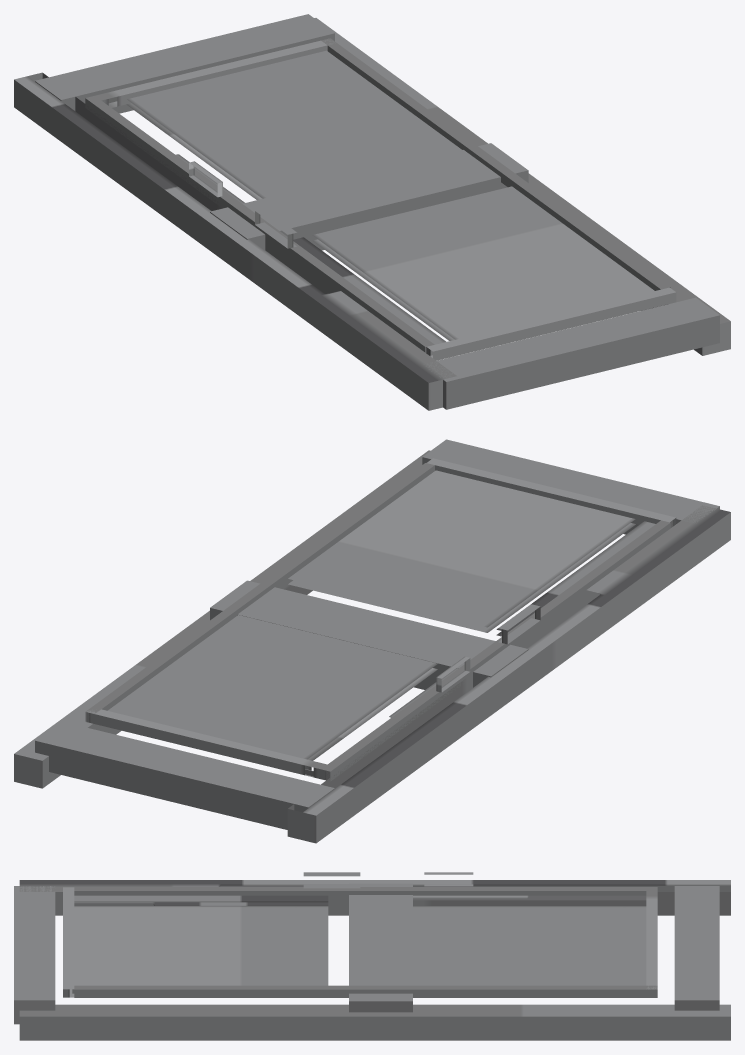
3 renders of one model, top to bottom at view 1: azimuth 30°, elevation 25°; view 2: azimuth 150°, elevation 25°; view 3: azimuth 270°, elevation 25°, orthographic. The views are drawn at different scales.
Bounding box in the file's own units: 0.795 × 0.1525 × 1.9.
